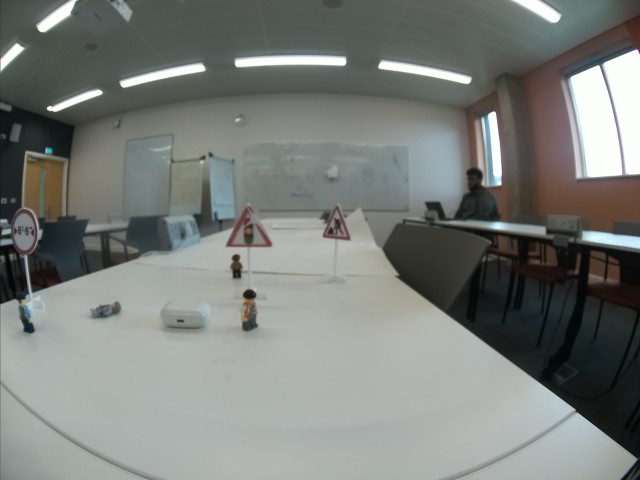6ft6: (12, 207, 39, 256)
Lego Man: (241, 286, 263, 332), (15, 288, 35, 332), (88, 297, 123, 319), (230, 252, 245, 278)
Roadworks: (323, 200, 350, 241)
Traffic lights: (225, 201, 276, 247)
